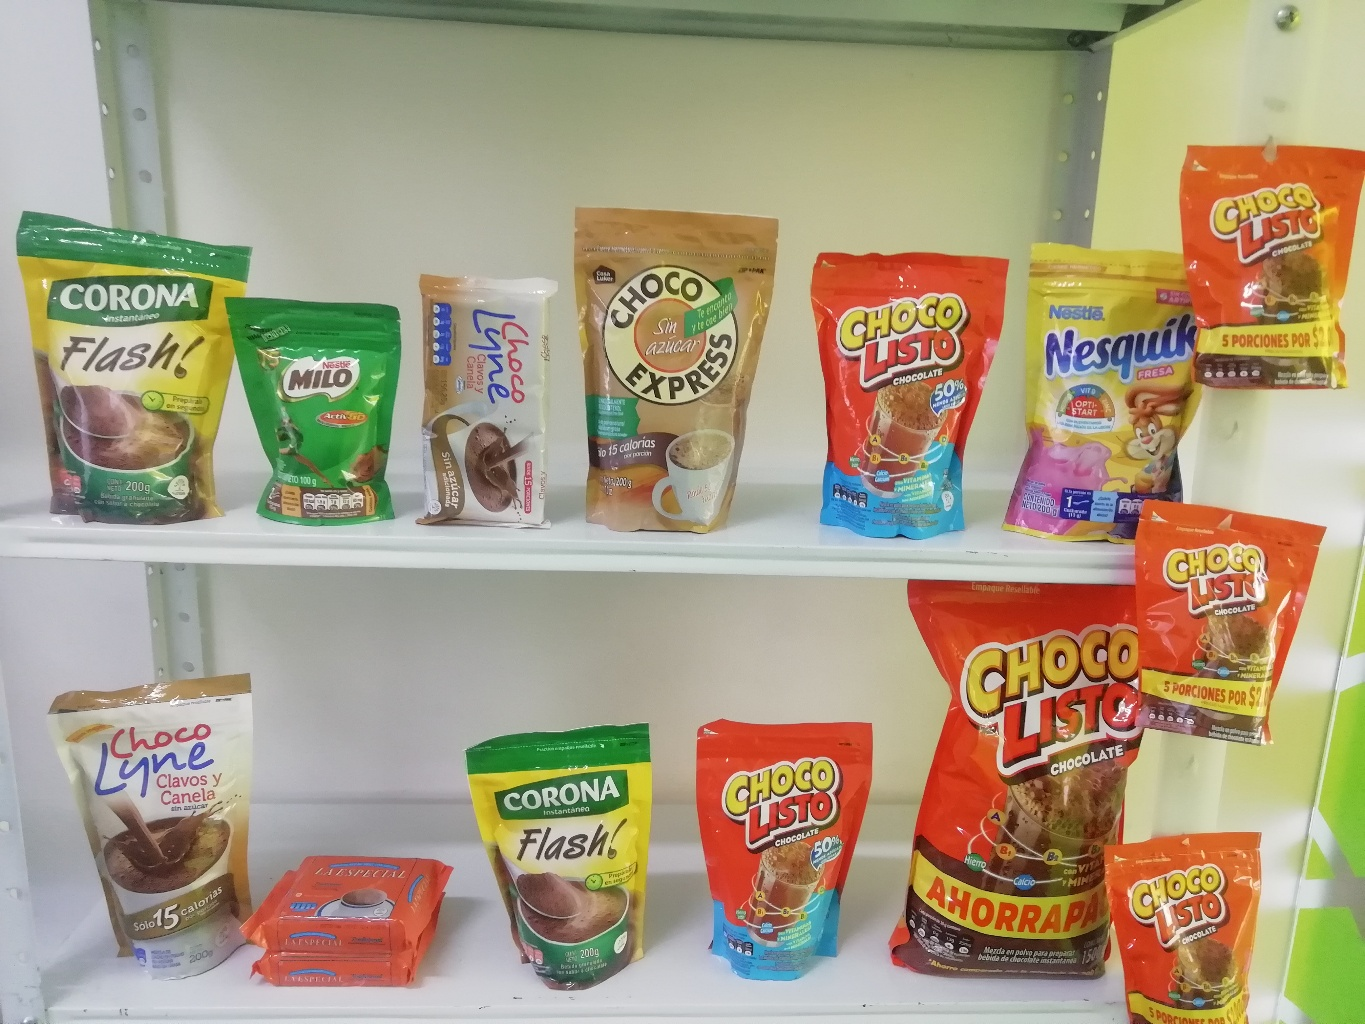COL0170104DYP20000: (800, 238, 1005, 543)
COL0170203DYP10000: (230, 287, 412, 527)
